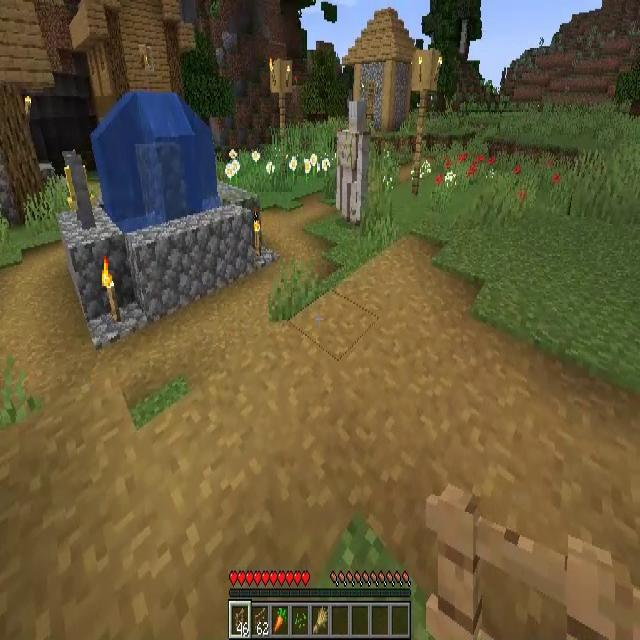flower: (305, 154, 317, 188), (288, 154, 298, 187)
people: (336, 100, 370, 227)
